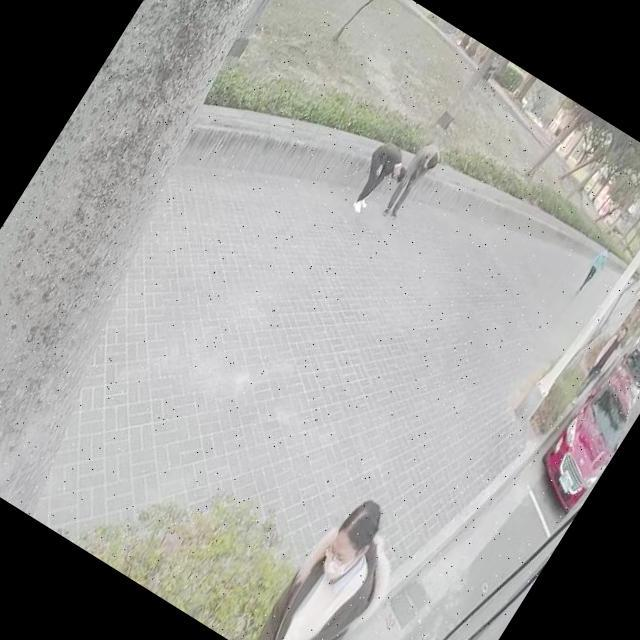person: (243, 480, 424, 640), (342, 136, 415, 222), (382, 140, 442, 222), (581, 321, 631, 389), (571, 242, 612, 296)
